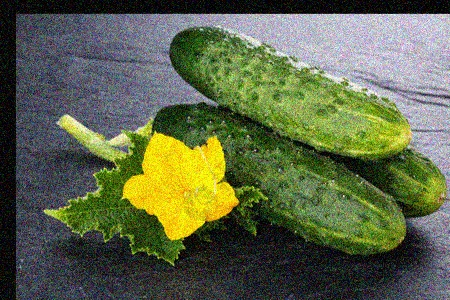cucumber: (169, 23, 410, 142)
cucumber_plant: (45, 118, 237, 258)
